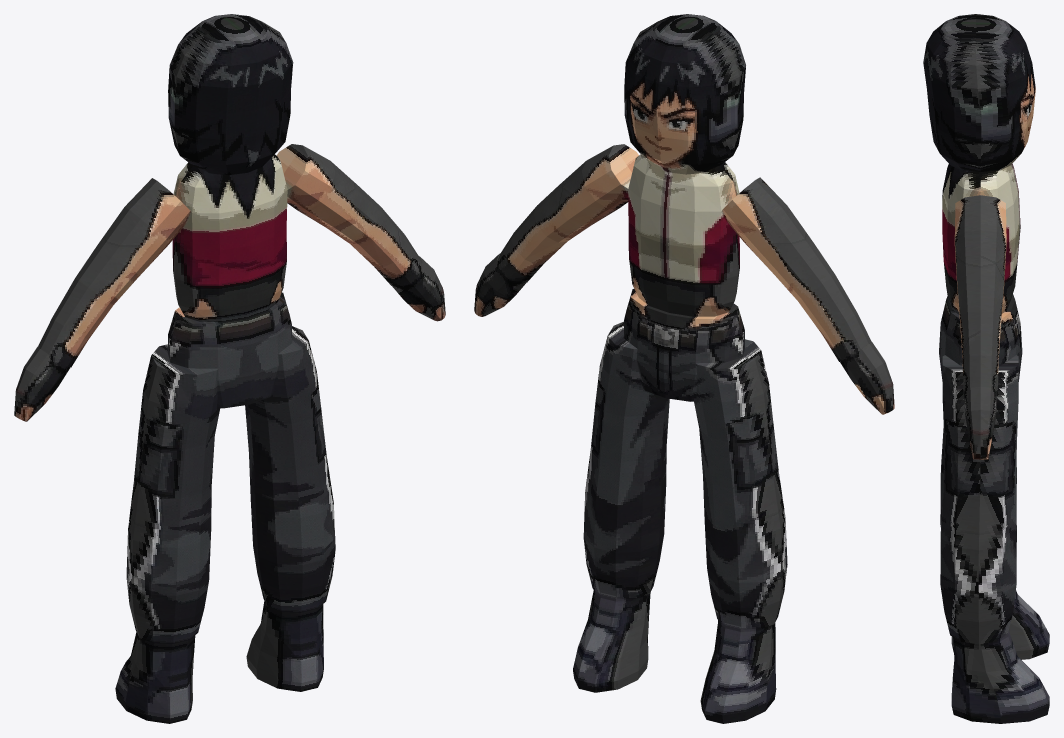
File: rally_driver.glb
3 views of the same model, side by side, from view 1: azimuth 30°, elevation 25°; view 2: azimuth 150°, elevation 25°; view 3: azimuth 270°, elevation 25° (orthographic). The views are drawn at different scales.
Visible parts, largest first — view 1: Pants_leg_L, Pants_leg_R, Head_and_hair, Torso, Arm_L, Arm_R, Pelvis, Boot_L, Boot_R, Glove_hand_L, Glove_hand_R; view 2: Pants_leg_L, Pants_leg_R, Head_and_hair, Torso, Arm_L, Arm_R, Pelvis, Boot_L, Boot_R, Glove_hand_L, Glove_hand_R; view 3: Pants_leg_R, Head_and_hair, Arm_R, Boot_R, Torso, Pelvis, Glove_hand_R, Boot_L, Pants_leg_L.
Part boxes in pixels (left/top/right/bottom): Pants_leg_L: left=126, top=344, right=220, bottom=643; Pants_leg_R: left=245, top=326, right=335, bottom=612; Head_and_hair: left=168, top=14, right=293, bottom=175; Torso: left=172, top=154, right=287, bottom=321; Arm_L: left=38, top=178, right=192, bottom=367; Arm_R: left=276, top=144, right=421, bottom=287; Pelvis: left=167, top=292, right=292, bottom=408; Boot_L: left=115, top=632, right=195, bottom=723; Boot_R: left=246, top=601, right=323, bottom=691; Glove_hand_L: left=14, top=346, right=69, bottom=421; Glove_hand_R: left=392, top=256, right=445, bottom=321; Pants_leg_L: left=694, top=339, right=787, bottom=629; Pants_leg_R: left=583, top=321, right=669, bottom=599; Head_and_hair: left=624, top=14, right=745, bottom=174; Torso: left=628, top=154, right=739, bottom=316; Arm_L: left=721, top=177, right=871, bottom=361; Arm_R: left=497, top=144, right=638, bottom=283; Pelvis: left=623, top=289, right=745, bottom=401; Boot_L: left=700, top=620, right=776, bottom=723; Boot_R: left=573, top=589, right=650, bottom=692; Glove_hand_L: left=840, top=342, right=894, bottom=414; Glove_hand_R: left=474, top=253, right=525, bottom=316; Pants_leg_R: left=940, top=355, right=1018, bottom=644; Head_and_hair: left=923, top=14, right=1035, bottom=171; Arm_R: left=954, top=195, right=1006, bottom=393; Boot_R: left=951, top=631, right=1049, bottom=723; Torso: left=942, top=163, right=1020, bottom=314; Pelvis: left=939, top=294, right=1022, bottom=381; Glove_hand_R: left=964, top=386, right=997, bottom=459; Boot_L: left=951, top=590, right=1049, bottom=659; Pants_leg_L: left=940, top=428, right=1016, bottom=526.
Bounding box in the file's own units: 1.33 × 1.99 × 0.3481.
1 material, 1 textured.
